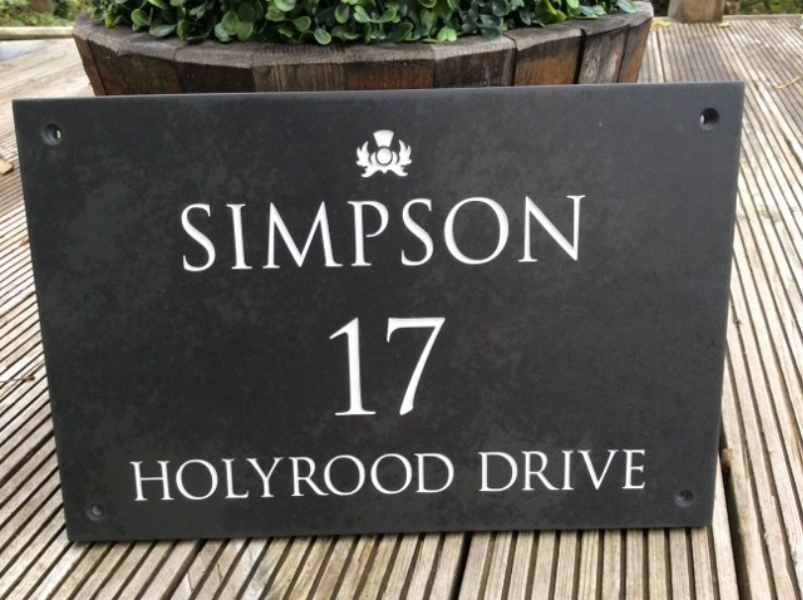text: (337, 317, 352, 416), (353, 317, 368, 416), (369, 317, 384, 416), (385, 317, 400, 416), (401, 317, 416, 416), (417, 317, 432, 416), (433, 317, 447, 416), (193, 194, 208, 273), (209, 194, 224, 273), (225, 194, 240, 273), (241, 194, 256, 273), (257, 194, 272, 273), (273, 194, 288, 273), (289, 194, 304, 273), (305, 194, 320, 273), (321, 194, 336, 273), (337, 194, 352, 273), (353, 194, 368, 273), (369, 194, 384, 273), (385, 194, 400, 273), (401, 194, 416, 273), (417, 194, 432, 273), (433, 194, 448, 273), (449, 194, 464, 273), (465, 194, 480, 273), (481, 194, 496, 273), (497, 194, 512, 273), (513, 194, 528, 273), (529, 194, 544, 273), (545, 194, 560, 273), (561, 194, 576, 273), (180, 194, 192, 273), (327, 317, 336, 416), (129, 451, 144, 504), (145, 451, 160, 504), (161, 451, 176, 504), (177, 451, 192, 504), (193, 451, 208, 504), (209, 451, 224, 504), (225, 451, 240, 504), (241, 451, 256, 504), (257, 451, 272, 504), (273, 451, 288, 504), (289, 451, 304, 504), (305, 451, 320, 504), (321, 451, 336, 504), (337, 451, 352, 504), (353, 451, 368, 504), (369, 451, 384, 504), (385, 451, 400, 504), (401, 451, 416, 504), (417, 451, 432, 504), (433, 451, 448, 504), (481, 447, 496, 495), (497, 447, 512, 495), (513, 447, 528, 495), (529, 447, 544, 495), (545, 447, 560, 495), (561, 447, 576, 495), (577, 447, 592, 495), (593, 447, 608, 495), (609, 447, 624, 495), (625, 447, 640, 495), (577, 194, 586, 273), (449, 451, 460, 504), (641, 447, 652, 495), (476, 447, 480, 495)
